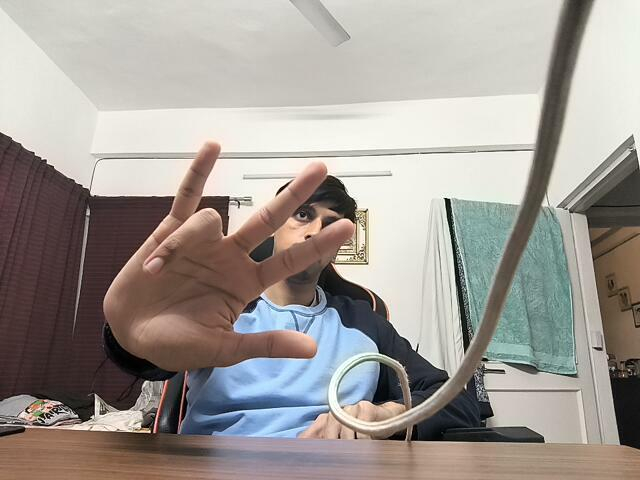BACKWARD: (91, 132, 346, 379)
